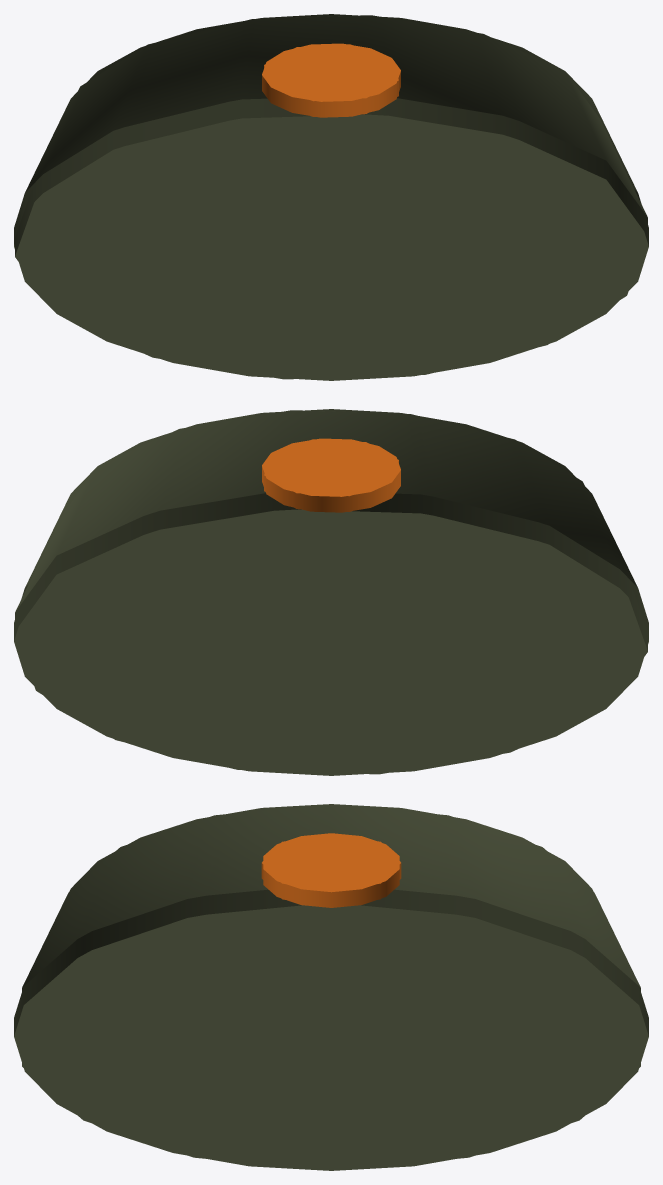
File: mn_prox.glb
3 views of the same model, one above another, from view 1: azimuth 30°, elevation 25°; view 2: azimuth 150°, elevation 25°; view 3: azimuth 270°, elevation 25° (orthographic).
Parts seen in each view (by area): view 1: L0, L1; view 2: L1, L0; view 3: L0, L1.
Boxes of the visible parts, x1,y1,x2,y2 form: L0: [14, 14, 648, 380]; L1: [15, 15, 647, 379]; L1: [15, 410, 647, 774]; L0: [14, 409, 648, 775]; L0: [14, 804, 648, 1170]; L1: [22, 804, 640, 1170].
Bounding box in the file's own units: 0.2 × 0.0605 × 0.2.
